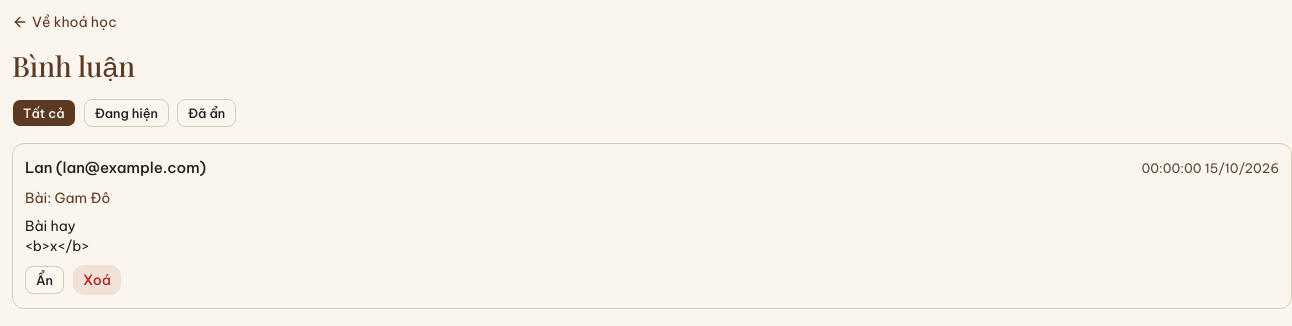
Scenario: Kiểm duyệt bình luận (C4) › PATCH 404 (đã bị xoá nơi khác): hiện lỗi và tải lại danh sách
Click the button with aria-label "Ẩn bình luận của Lan (lan@example.com)" at (44, 280), box [25,266,64,294]
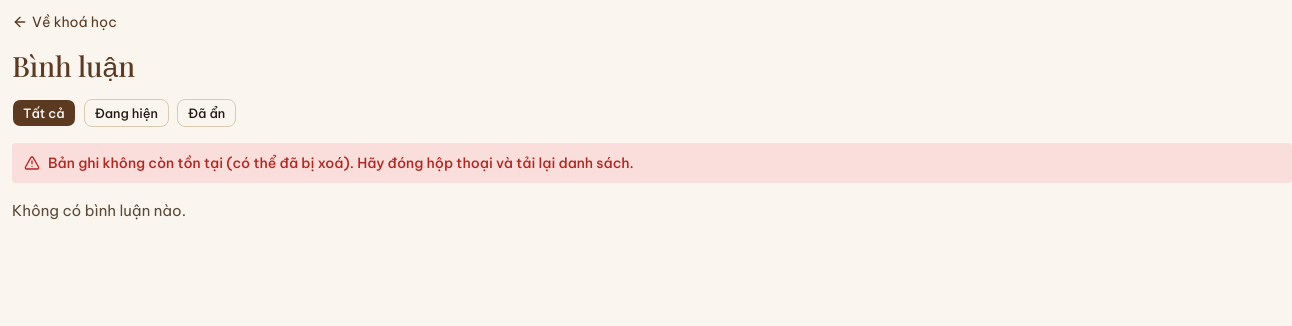
Now the text "Không có bình luận nào." is shown, box [12,201,186,220]
